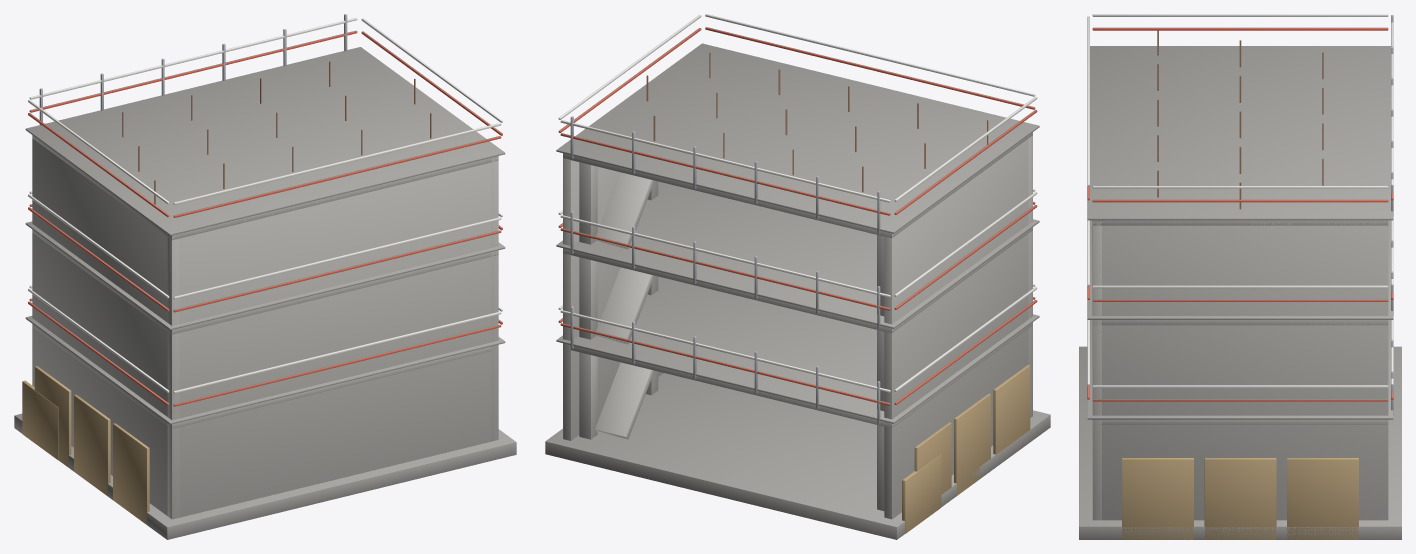
The model's file is th46_rohbau.glb.
The picture shows the model from 3 angles, left to right: view 1: azimuth 30°, elevation 25°; view 2: azimuth 150°, elevation 25°; view 3: azimuth 270°, elevation 25°; orthographic projection. The views are drawn at different scales.
Parts seen in each view (by area): view 1: Cube.075, Cube.034, Cube.073, Cube, Cube.076, Cube.077, Cube.018, Cube.002, Cube.033, Cube.017, Cube.001, Cube.074 (+18 smaller); view 2: Cube.034, Cube, Cube.073, Cube.002, Cube.018, Cube.074, Cube.077, Cube.083, Cube.076, Cube.084, Cube.085, Cube.033 (+24 smaller); view 3: Cube.074, Cube.034, Cube, Cube.080, Cube.079, Cube.081, Cube.075, Cube.002, Cube.018, Cube.033, Cube.017, Cube.001 (+10 smaller).
Boxes of the visible parts, box(x1,y1,x2,y2) form: Cube.075: box(167, 162, 491, 518); Cube.034: box(25, 47, 505, 235); Cube.073: box(32, 138, 179, 519); Cube: box(14, 413, 516, 539); Cube.076: box(113, 423, 149, 524); Cube.077: box(74, 394, 110, 495); Cube.018: box(25, 221, 505, 330); Cube.002: box(25, 316, 505, 424); Cube.033: box(32, 135, 498, 240); Cube.017: box(32, 229, 498, 334); Cube.001: box(32, 324, 498, 428); Cube.074: box(491, 158, 498, 441); Cube.034: box(556, 43, 1039, 233); Cube: box(545, 373, 1050, 539); Cube.073: box(884, 138, 1028, 519); Cube.002: box(556, 276, 1039, 423); Cube.018: box(556, 181, 1039, 328); Cube.074: box(563, 158, 663, 440); Cube.077: box(954, 393, 990, 495); Cube.083: box(595, 362, 654, 439); Cube.076: box(993, 365, 1030, 454); Cube.084: box(595, 267, 654, 344); Cube.085: box(595, 172, 654, 249); Cube.033: box(563, 132, 1032, 238); Cube.074: box(1092, 222, 1388, 520); Cube.034: box(1087, 46, 1393, 220); Cube: box(1079, 346, 1401, 539); Cube.080: box(1204, 458, 1276, 539); Cube.079: box(1122, 458, 1193, 539); Cube.081: box(1287, 458, 1358, 539); Cube.075: box(1093, 222, 1101, 520); Cube.002: box(1087, 320, 1393, 419); Cube.018: box(1087, 220, 1393, 319); Cube.033: box(1092, 220, 1388, 225); Cube.017: box(1092, 320, 1388, 325); Cube.001: box(1092, 419, 1388, 424).
Bounding box in the file's own units: 12.41 × 11.44 × 9.4.
